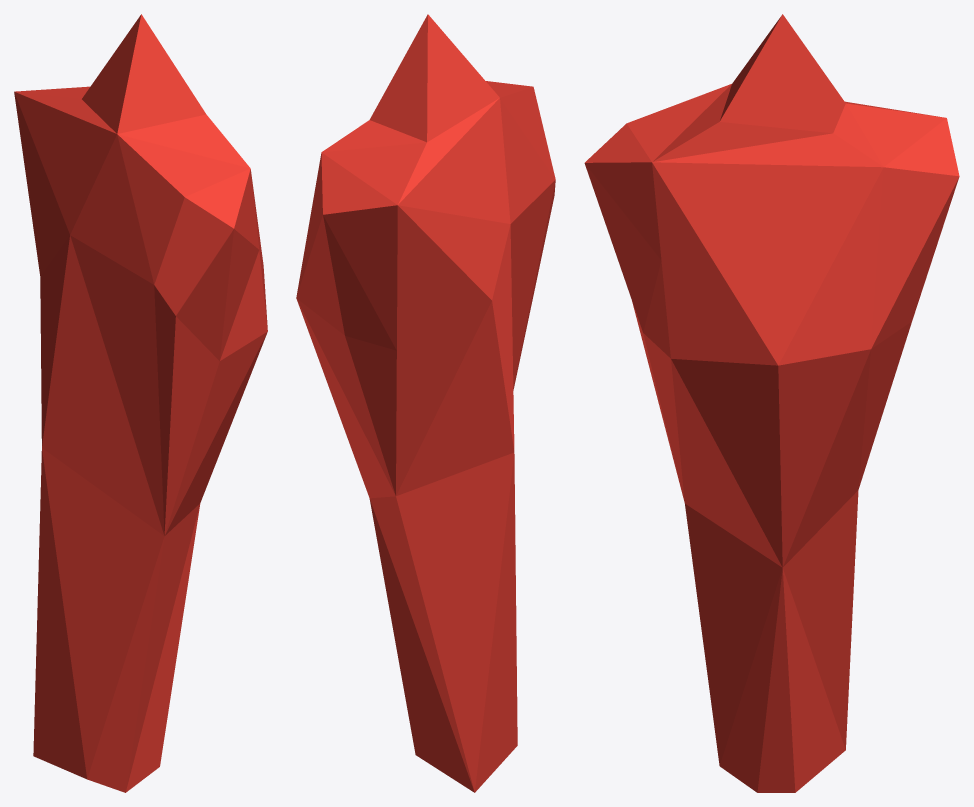
The model's file is Colorfull Man - Chest.obj.
3 views of the same model, side by side, from view 1: azimuth 30°, elevation 25°; view 2: azimuth 150°, elevation 25°; view 3: azimuth 270°, elevation 25° (orthographic). The views are drawn at different scales.
Visible parts, largest first — view 1: group6414196; view 2: group6414196; view 3: group6414196.
Boxes of the visible parts, <box> form: group6414196: <box>14,14,267,792</box>; group6414196: <box>296,14,555,792</box>; group6414196: <box>584,14,959,792</box>.
Size of the model in its own units: 0.2031 by 0.6777 by 0.297.
